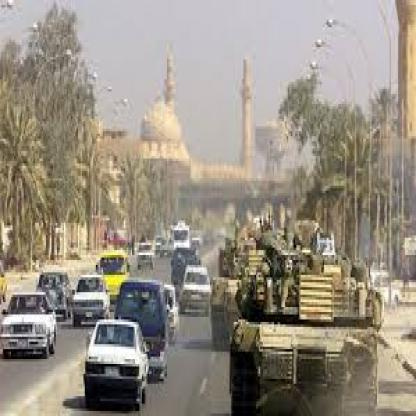car: (107, 271, 174, 388), (78, 316, 152, 408), (0, 284, 62, 373), (92, 248, 147, 312), (34, 249, 79, 314), (70, 273, 122, 323), (180, 253, 216, 316), (132, 236, 162, 270), (175, 212, 193, 264)
